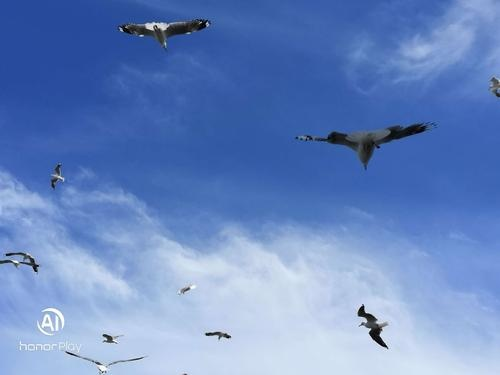bird: (289, 115, 437, 168), (112, 16, 205, 52), (66, 348, 149, 375), (351, 298, 393, 349), (5, 247, 42, 274), (167, 282, 201, 302), (1, 255, 38, 273), (96, 328, 127, 346), (47, 161, 64, 192), (201, 330, 235, 343)
